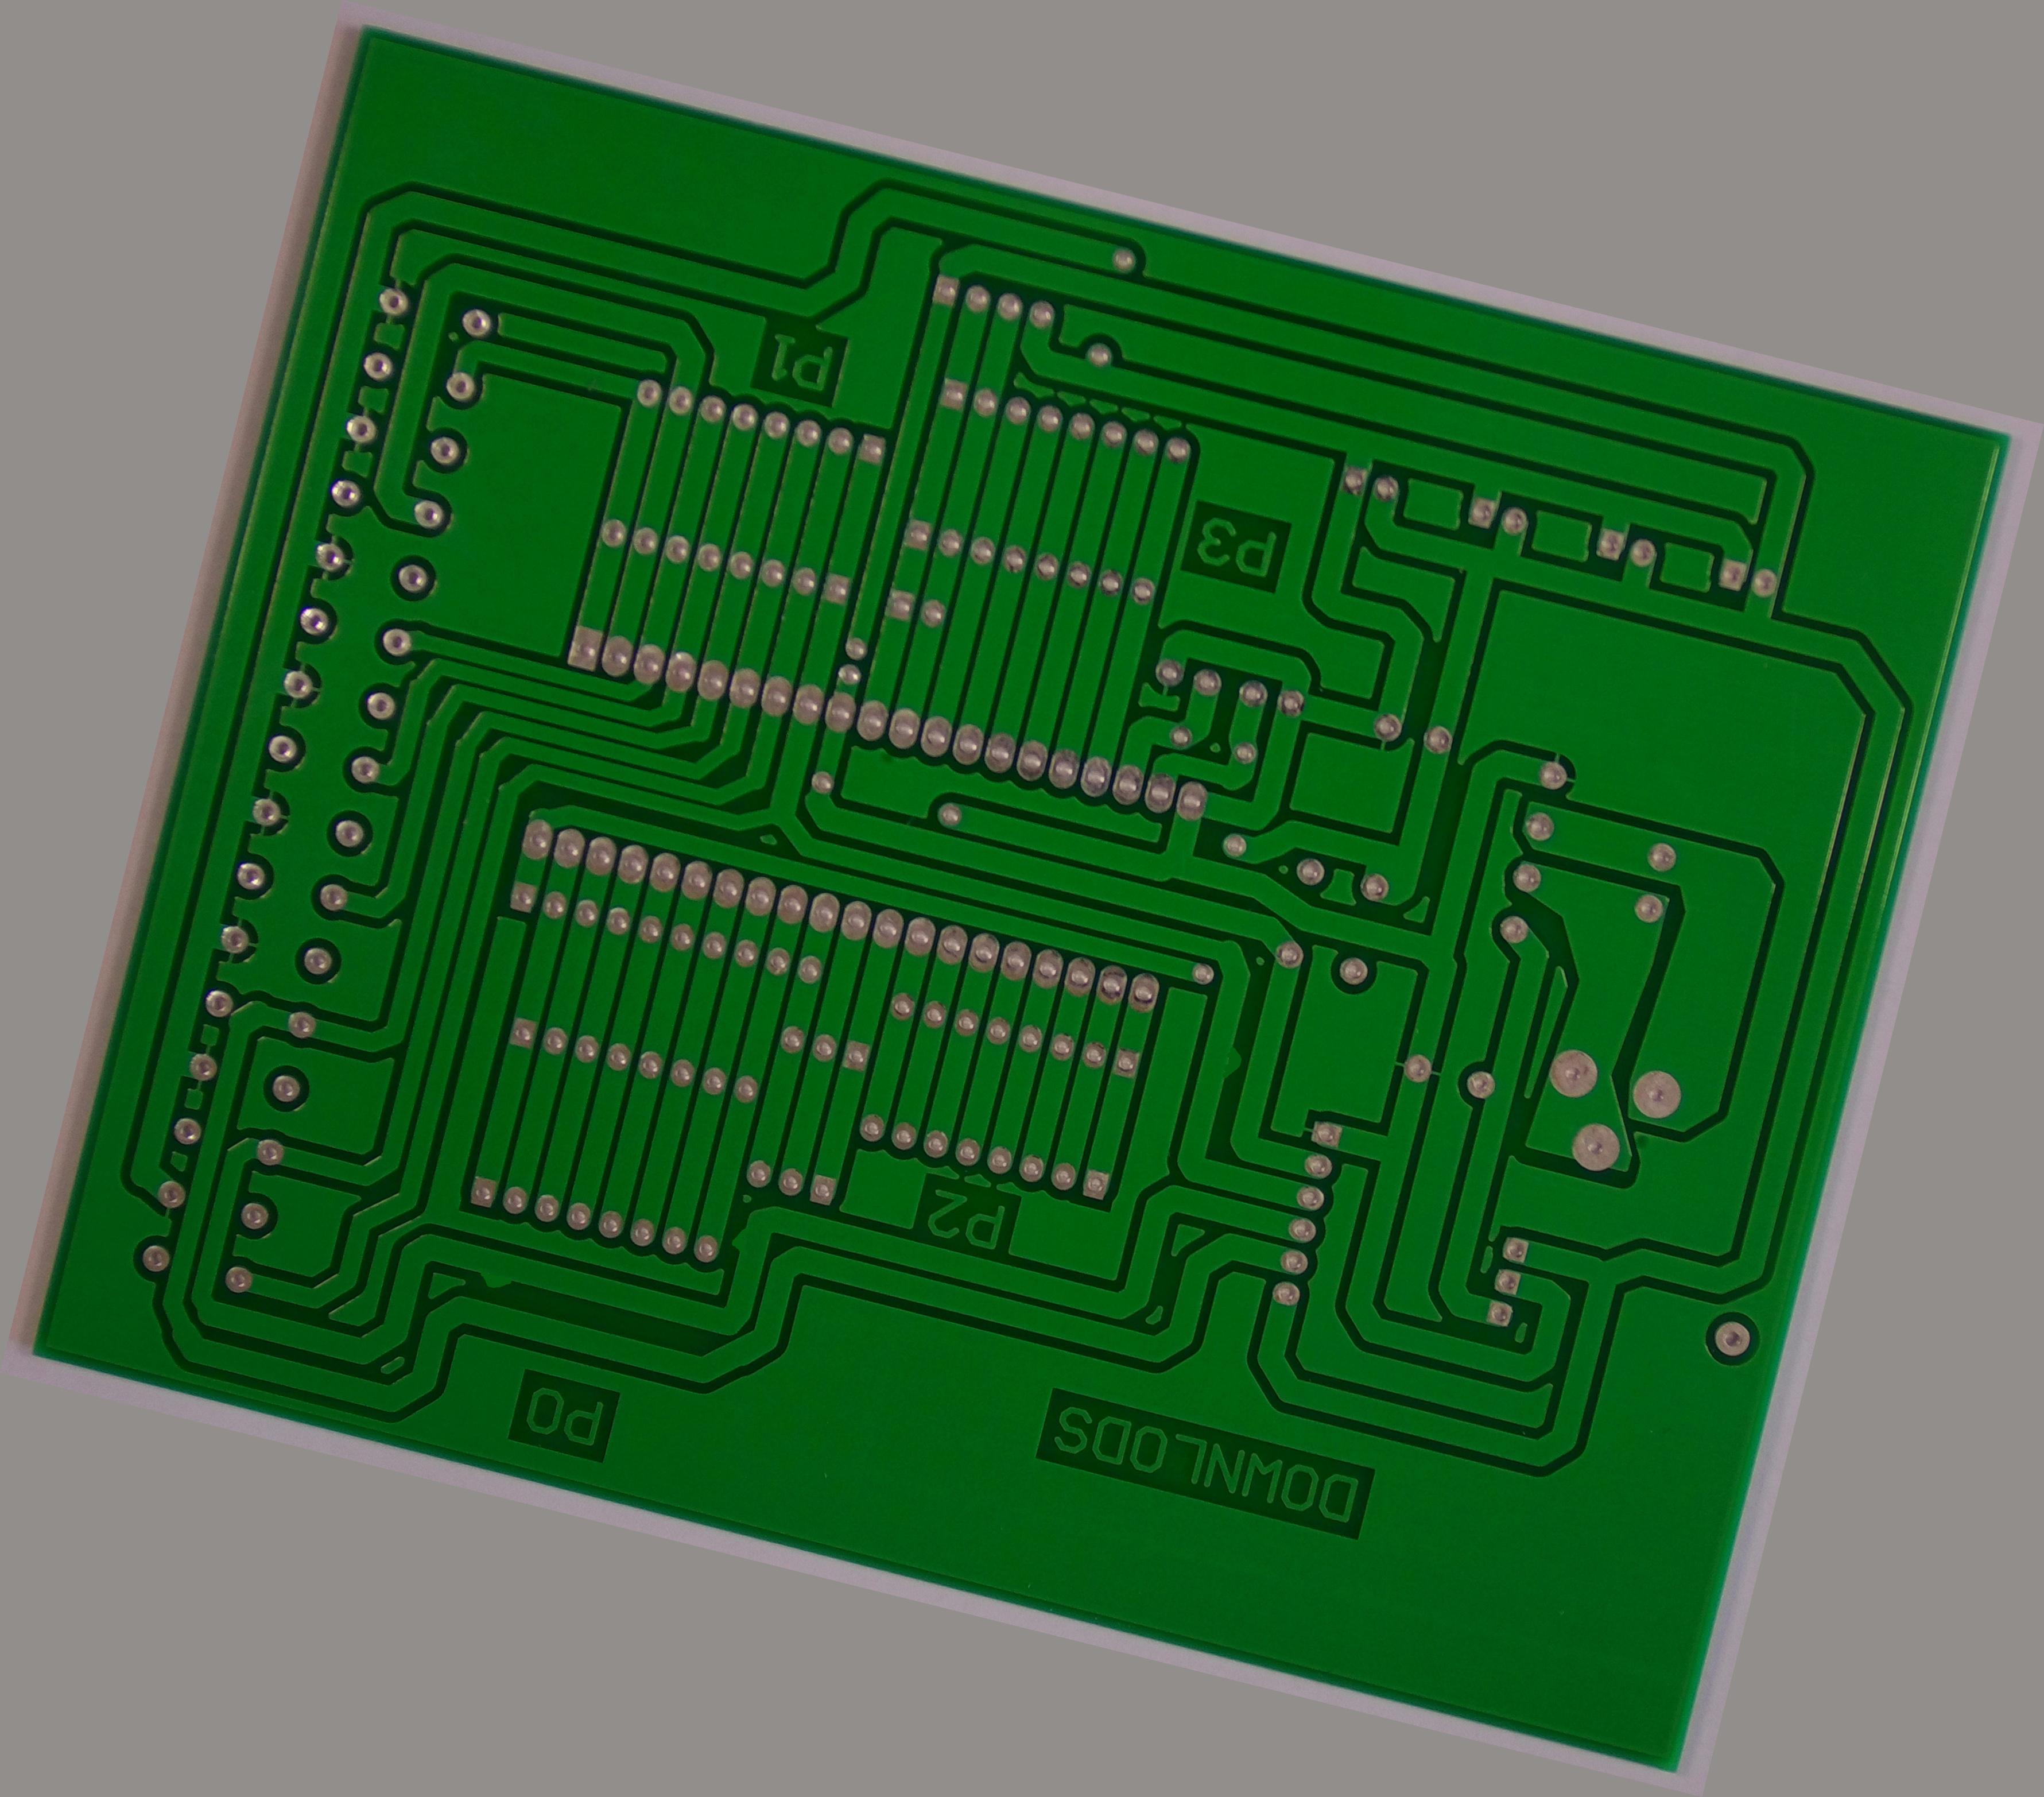spur: (1211, 1031, 1255, 1095), (468, 1257, 527, 1303), (725, 1217, 765, 1263)
